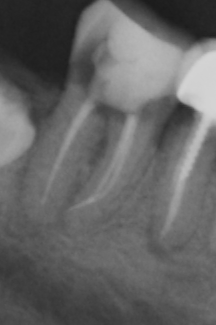fracture: (65, 193, 97, 217)
